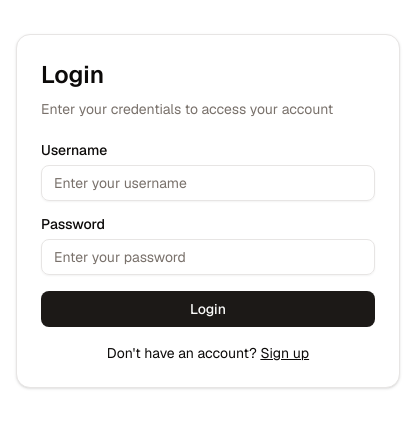
Test: Login Page › should show validation errors for empty fields
Click the button "Login". click: (208, 309)
box: [41,291,375,327]
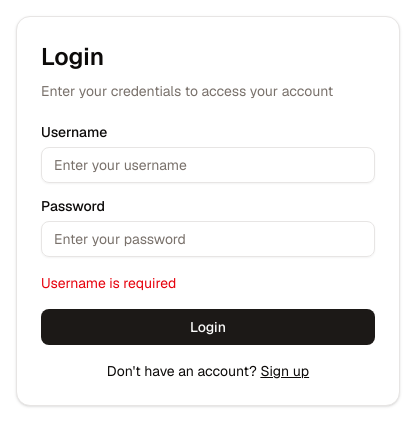
Expected: the text "Username is required" is shown, [41,274,176,292]
